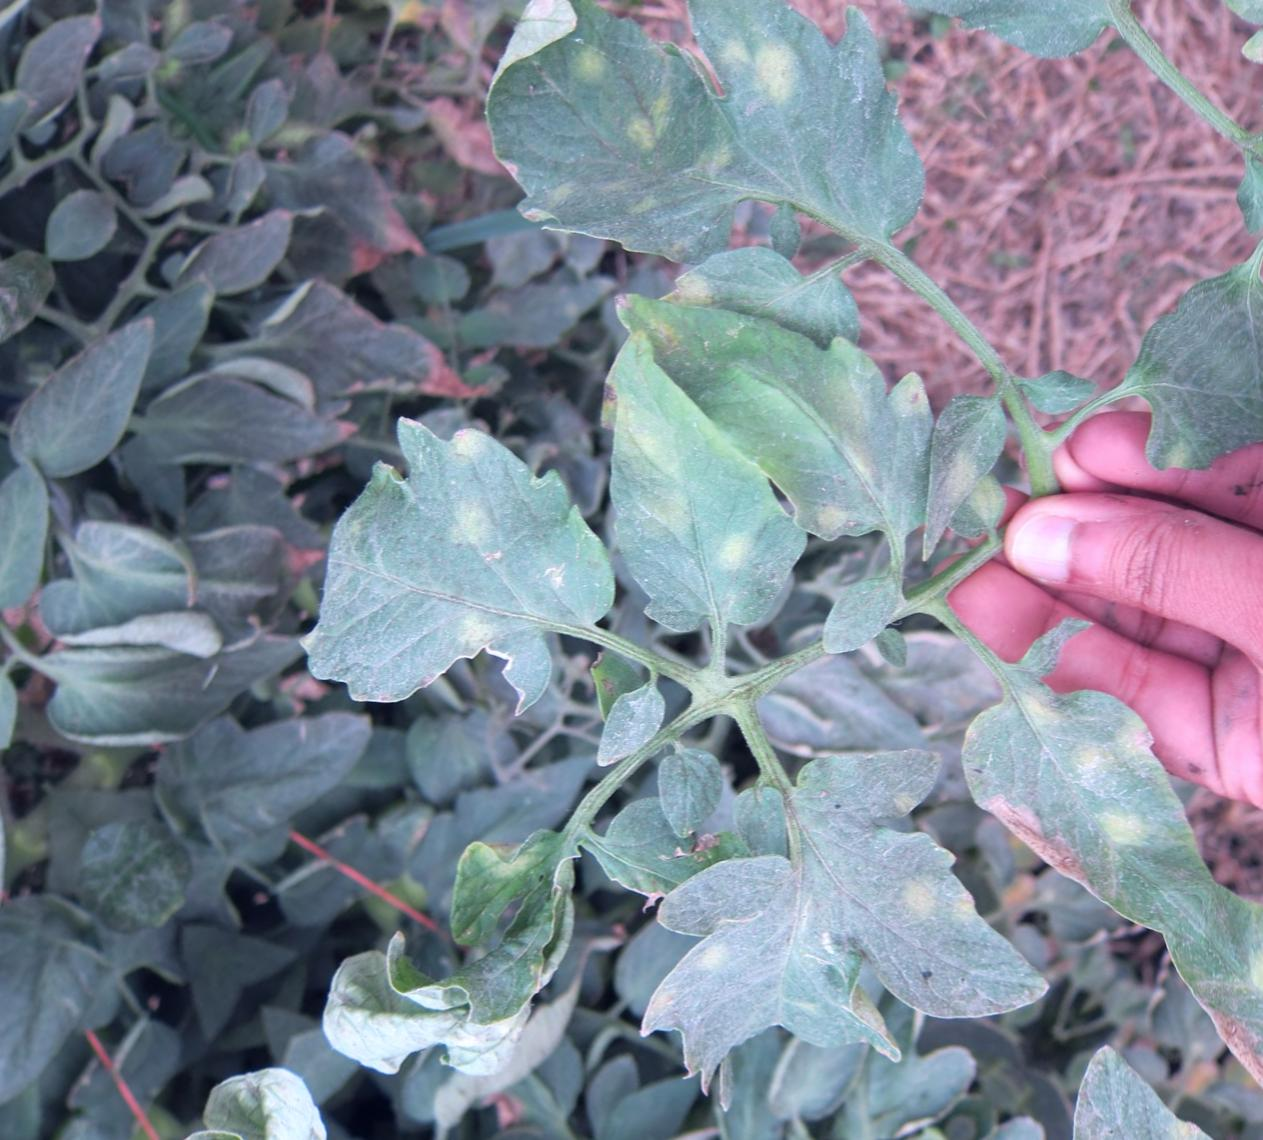Tomato mold leaf: (570, 700, 1106, 1140), (225, 363, 672, 809), (601, 151, 1041, 594), (485, 252, 905, 672), (377, 0, 806, 351), (578, 0, 1026, 315), (893, 612, 1263, 993), (285, 786, 650, 1140), (1062, 294, 1263, 542)
